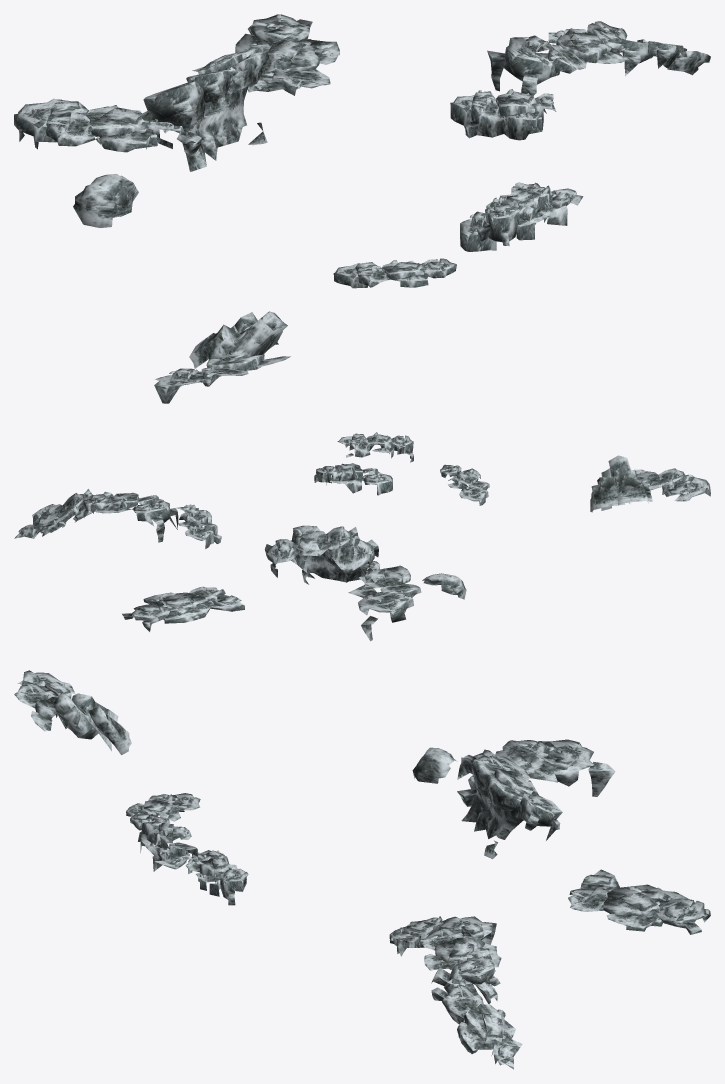
The model's file is S_Rock_White046_6.FBX.
3 renders of one model, top to bottom at view 1: azimuth 30°, elevation 25°; view 2: azimuth 150°, elevation 25°; view 3: azimuth 270°, elevation 25°, orthographic. The views are drawn at different scales.
Visible parts, largest first — view 1: S_Rock_White046_008, S_Rock_White046_007, S_Rock_White046_011, S_Rock_White046_009, S_Rock_White046_010, S_Rock_White046_004, S_Rock_White046_002, S_Rock_White046_003, S_Rock_White046_006, S_Rock_White046_001, S_Rock_White046_012, S_Rock_White046_005; view 2: S_Rock_White046_008, S_Rock_White046_007, S_Rock_White046_009, S_Rock_White046_002, S_Rock_White046_011, S_Rock_White046_012, S_Rock_White046_005, S_Rock_White046_001, S_Rock_White046_004, S_Rock_White046_003, S_Rock_White046_010, S_Rock_White046_006; view 3: S_Rock_White046_008, S_Rock_White046_009, S_Rock_White046_012, S_Rock_White046_007, S_Rock_White046_011, S_Rock_White046_002, S_Rock_White046_004, S_Rock_White046_005, S_Rock_White046_001, S_Rock_White046_003, S_Rock_White046_010, S_Rock_White046_006.
Part boxes in pixels (bbox=[...]): S_Rock_White046_008: bbox=[137, 47, 276, 171]; S_Rock_White046_007: bbox=[14, 98, 201, 154]; S_Rock_White046_011: bbox=[487, 21, 628, 95]; S_Rock_White046_009: bbox=[235, 14, 339, 95]; S_Rock_White046_010: bbox=[450, 89, 556, 140]; S_Rock_White046_004: bbox=[476, 185, 583, 246]; S_Rock_White046_002: bbox=[189, 311, 287, 368]; S_Rock_White046_003: bbox=[333, 258, 456, 288]; S_Rock_White046_006: bbox=[73, 174, 138, 227]; S_Rock_White046_001: bbox=[154, 354, 290, 403]; S_Rock_White046_012: bbox=[604, 39, 710, 76]; S_Rock_White046_005: bbox=[460, 182, 546, 251]; S_Rock_White046_008: bbox=[264, 525, 378, 584]; S_Rock_White046_007: bbox=[348, 561, 421, 641]; S_Rock_White046_009: bbox=[122, 586, 244, 631]; S_Rock_White046_002: bbox=[590, 455, 652, 512]; S_Rock_White046_011: bbox=[83, 492, 178, 542]; S_Rock_White046_012: bbox=[14, 489, 113, 538]; S_Rock_White046_005: bbox=[314, 463, 392, 495]; S_Rock_White046_001: bbox=[633, 468, 710, 501]; S_Rock_White046_004: bbox=[337, 432, 413, 462]; S_Rock_White046_003: bbox=[440, 464, 489, 505]; S_Rock_White046_010: bbox=[176, 504, 221, 548]; S_Rock_White046_006: bbox=[422, 573, 466, 599]; S_Rock_White046_008: bbox=[457, 749, 562, 859]; S_Rock_White046_009: bbox=[568, 869, 710, 934]; S_Rock_White046_012: bbox=[431, 963, 522, 1069]; S_Rock_White046_007: bbox=[457, 739, 615, 806]; S_Rock_White046_011: bbox=[420, 916, 501, 986]; S_Rock_White046_002: bbox=[52, 692, 131, 754]; S_Rock_White046_004: bbox=[138, 815, 203, 871]; S_Rock_White046_005: bbox=[185, 850, 248, 905]; S_Rock_White046_001: bbox=[14, 670, 75, 731]; S_Rock_White046_003: bbox=[126, 793, 200, 830]; S_Rock_White046_010: bbox=[389, 916, 445, 956]; S_Rock_White046_006: bbox=[412, 747, 455, 783].
Bounding box in the file's own units: 7666 × 6683 × 1110.
